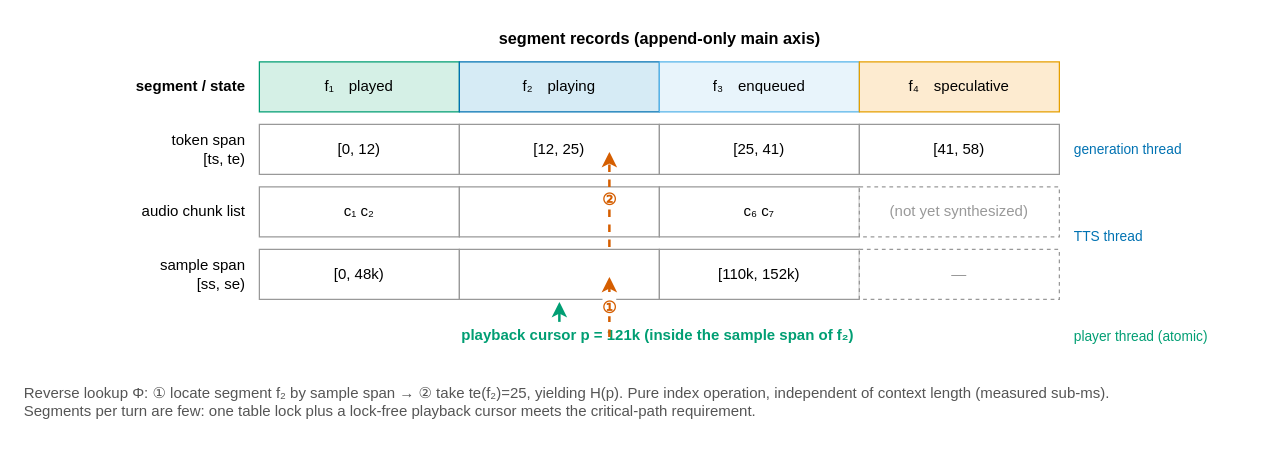
The diagram is 1268 pixels wide and 450 high, and some of its shapes have lost their labels. The shapes that lost their labels are listed below. From the top down, each one's centre as x and y in pixels, then its label:
At [558,211]: "c₃ c₄ c₅".
At [558,273]: "[48k, 110k)".
